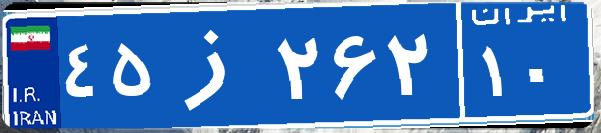0: (525, 38, 570, 115)
1: (475, 38, 525, 113)
2: (385, 28, 445, 110), (273, 28, 330, 110)
4: (57, 26, 110, 107)
5: (110, 28, 158, 105)
6: (330, 28, 385, 110)
ز: (158, 15, 273, 115)
